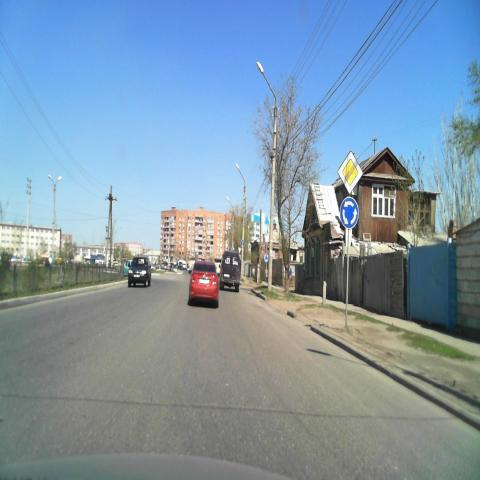4_3: (340, 196, 358, 228)
